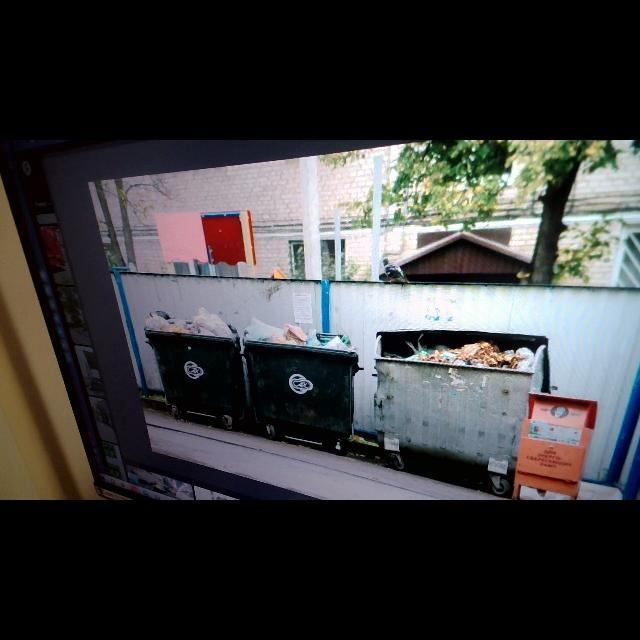Trash_Can_Full: (374, 329, 551, 477), (244, 315, 360, 435), (145, 306, 249, 423)
